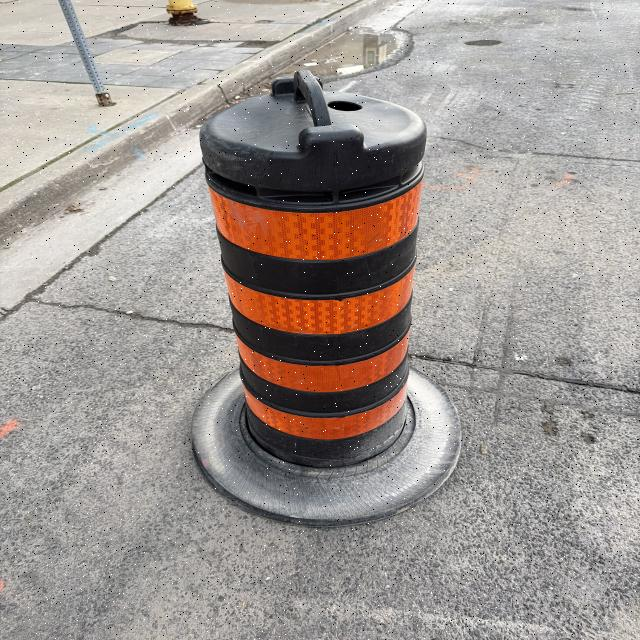Teraffic Barrel: (193, 71, 460, 524)
